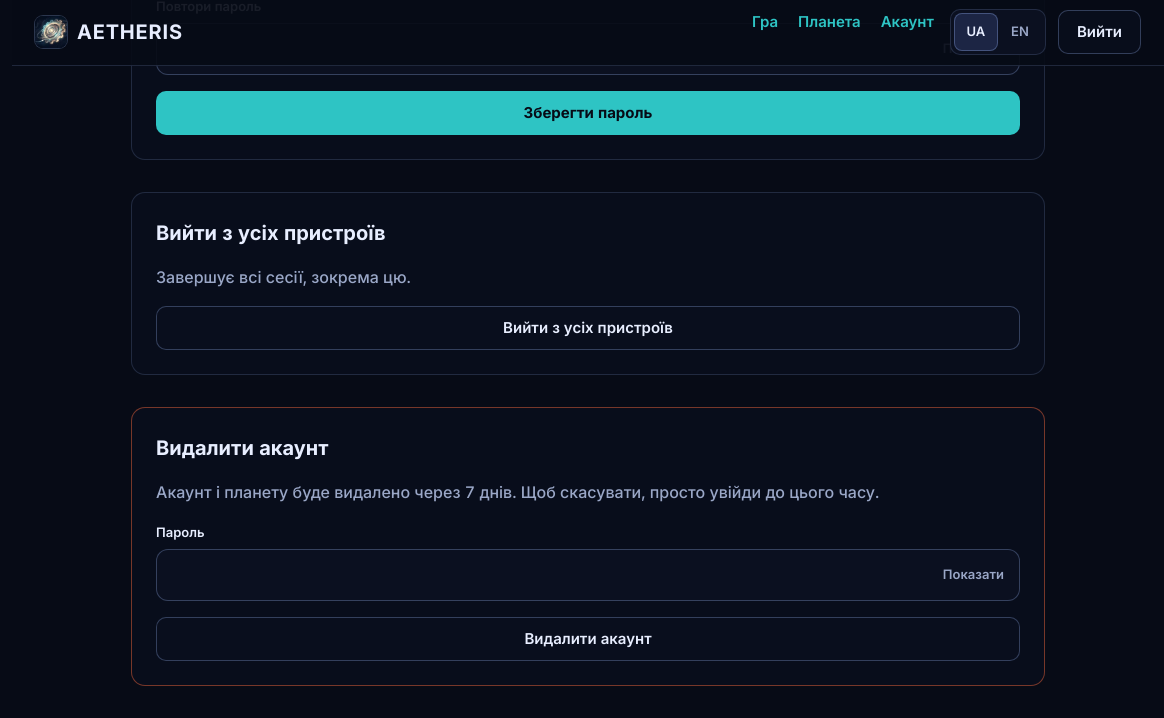
Scenario: AccountPage › requests the deletion with the password and tells how to cancel it
(page scrolled)
Step 1. Type "Violet-harbor-lantern-42" into the password field labelled "Пароль" → (588, 574), box [156,548,1020,600]
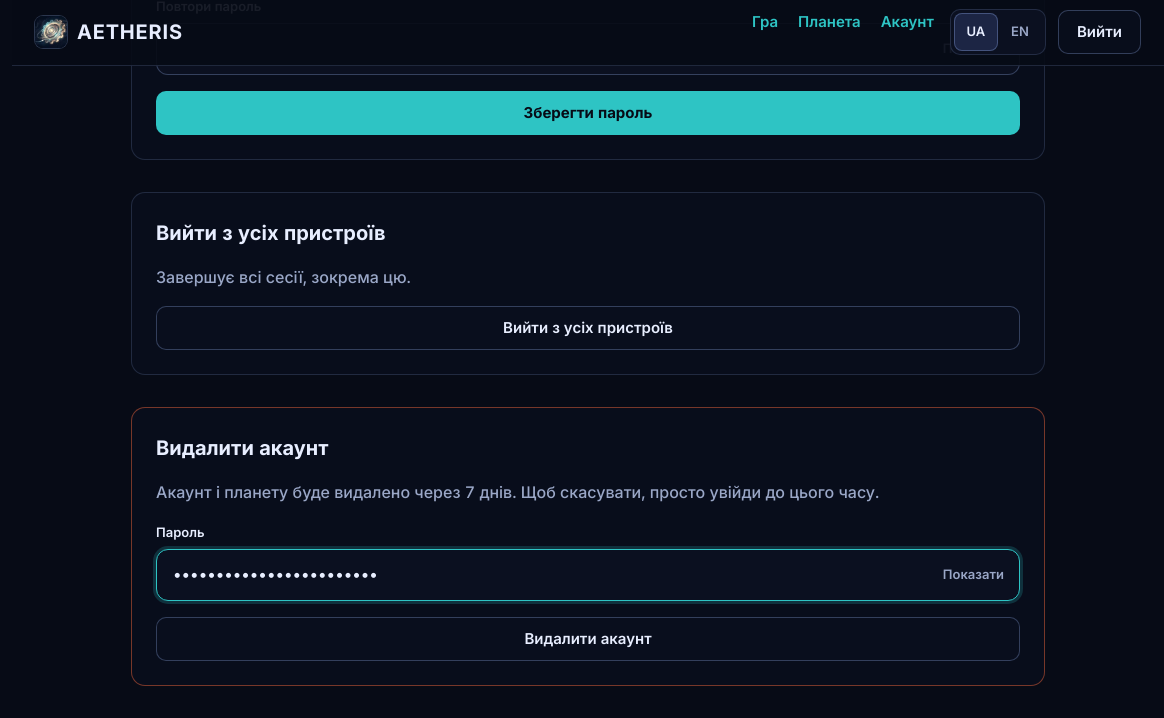
Step 2. Click the button "Видалити акаунт" → click(588, 638), box [156,616,1020,660]
(page scrolled)
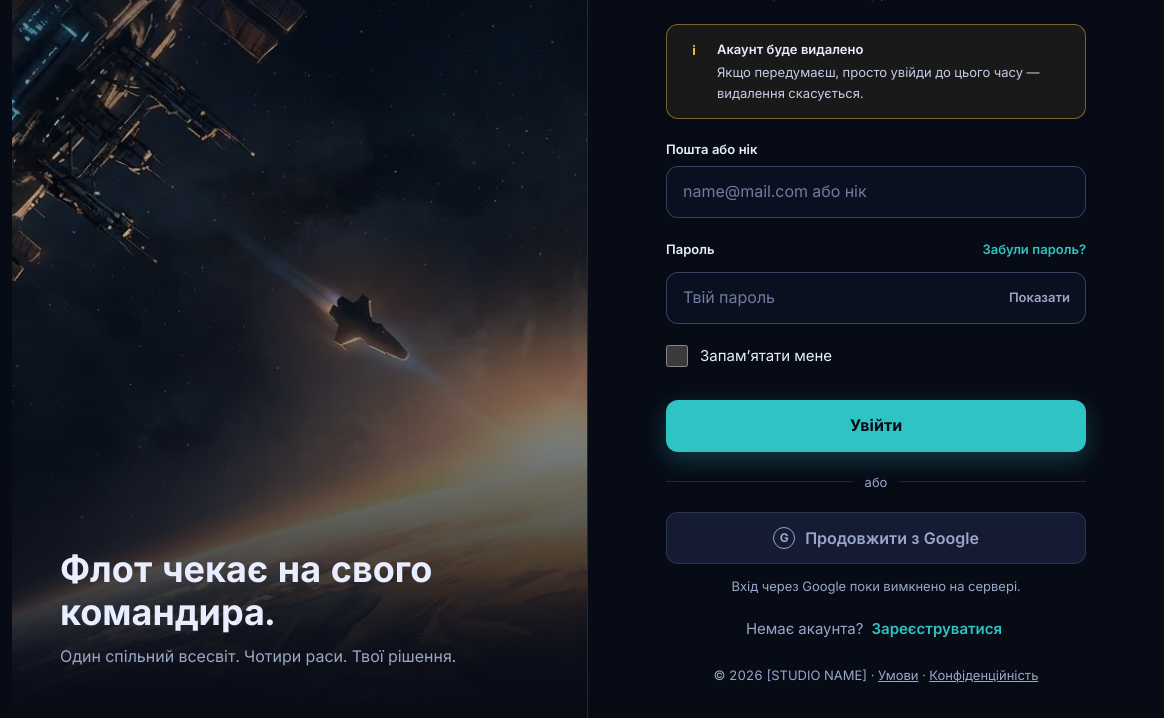
Expected: the text "Акаунт буде видалено" is shown, [717,41,863,57]
